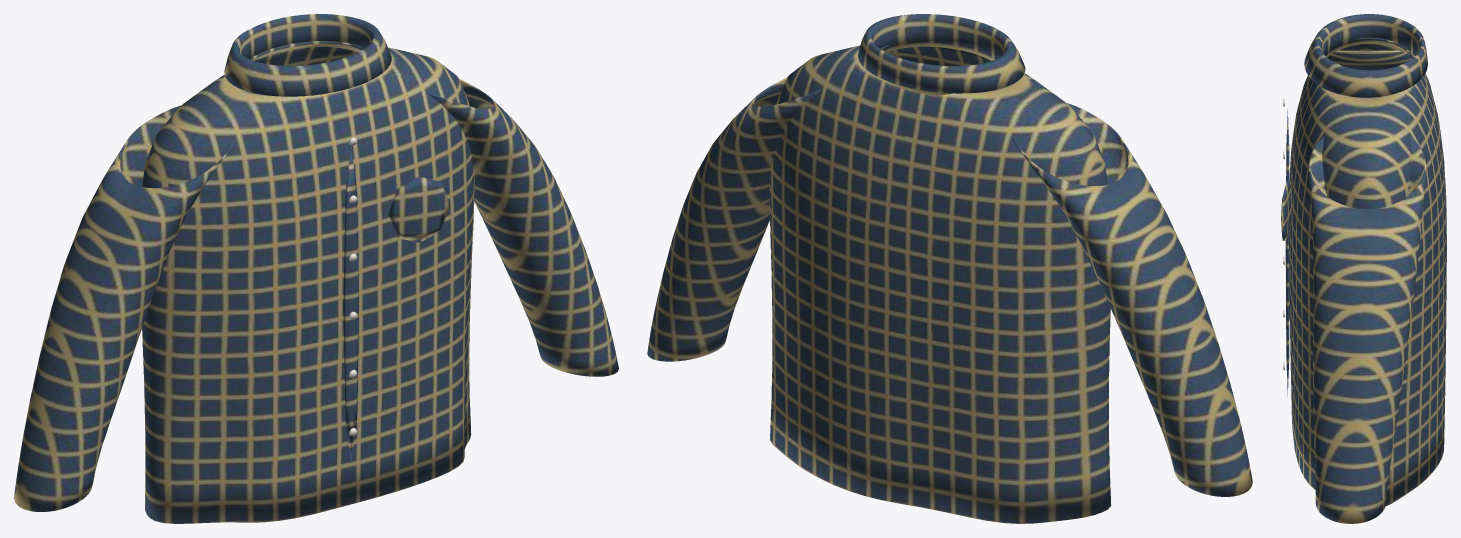
File: indigo_check_shirt.glb
3 views of the same model, side by side, from view 1: azimuth 30°, elevation 25°; view 2: azimuth 150°, elevation 25°; view 3: azimuth 270°, elevation 25° (orthographic). The views are drawn at different scales.
Visible parts, largest first — view 1: IndigoCheckShirtMesh; view 2: IndigoCheckShirtMesh; view 3: IndigoCheckShirtMesh.
Boxes of the visible parts, x1,y1,x2,y2 form: IndigoCheckShirtMesh: (14,14,618,523); IndigoCheckShirtMesh: (647,14,1252,523); IndigoCheckShirtMesh: (1281,14,1446,523).
Bounding box in the file's own units: 1.02 × 0.7092 × 0.271.
2 materials, 1 textured.
